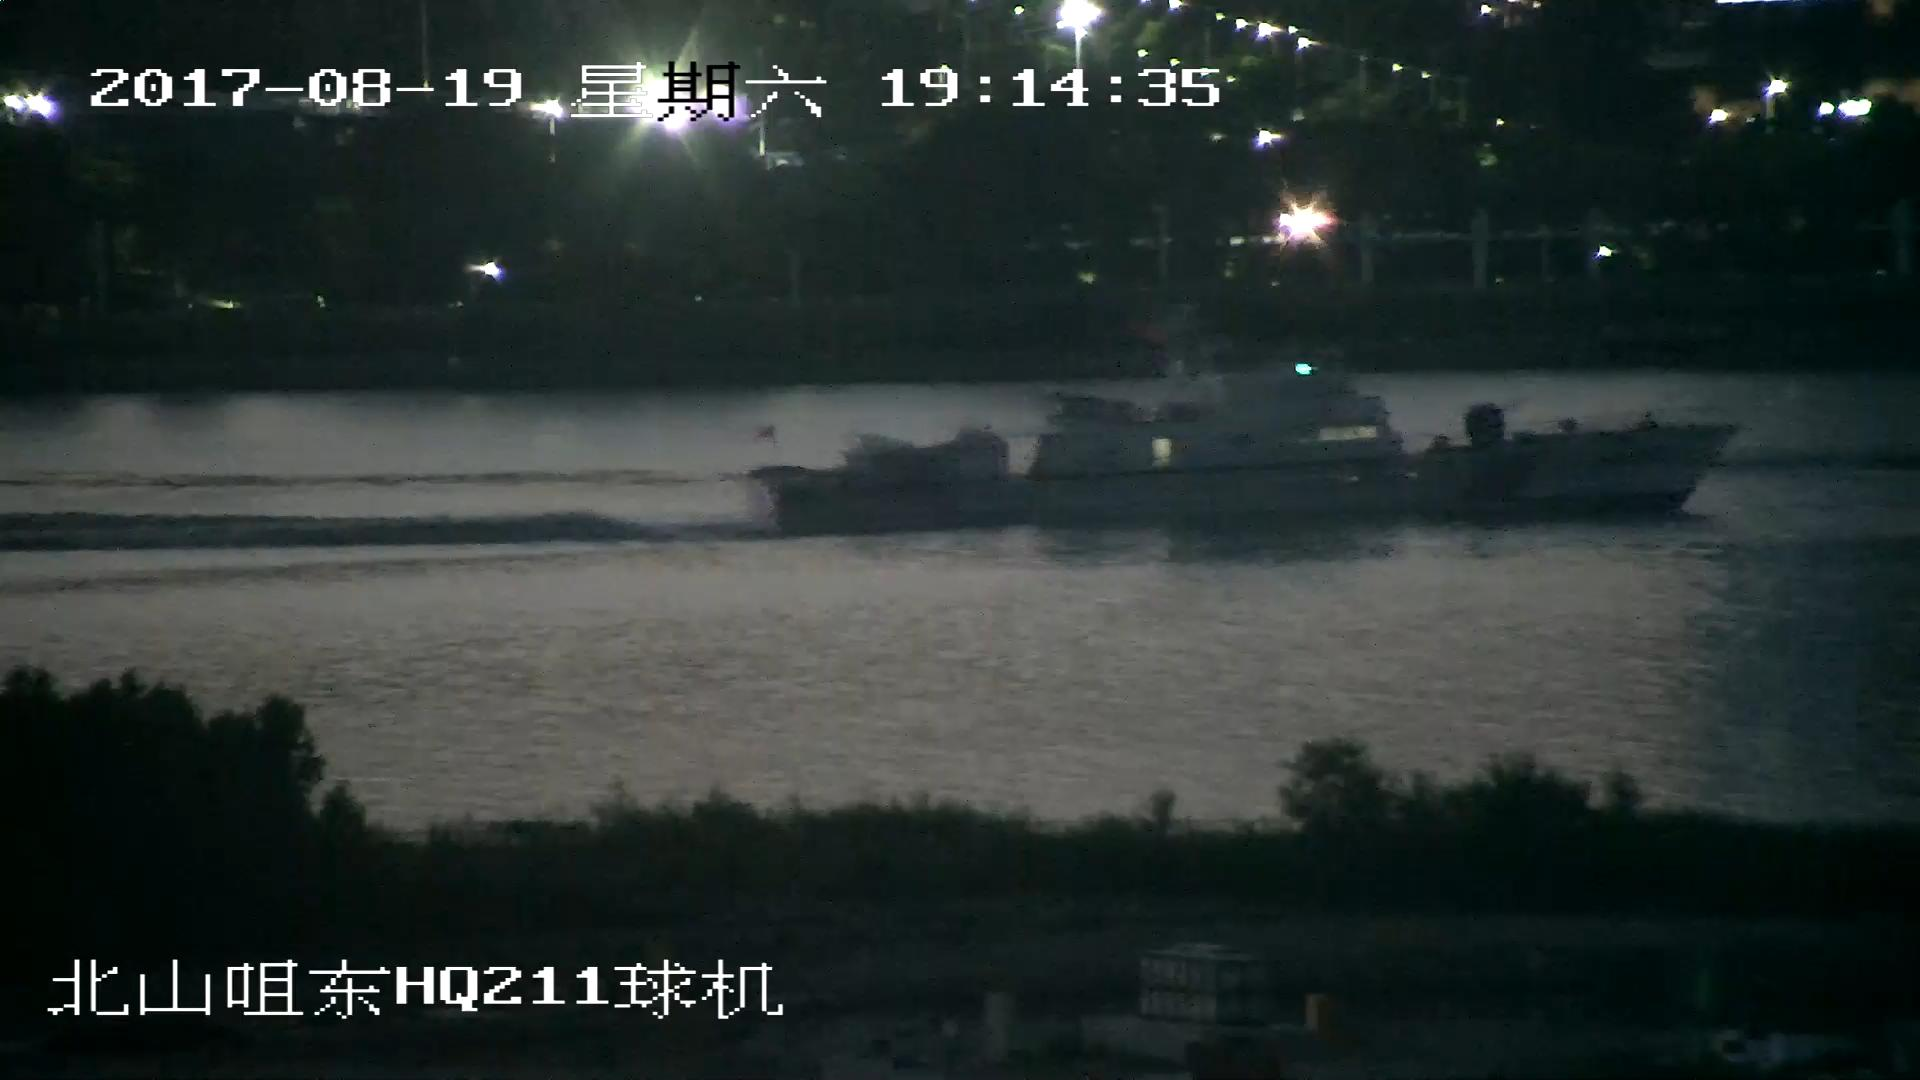passenger ship: (752, 340, 1738, 534)
